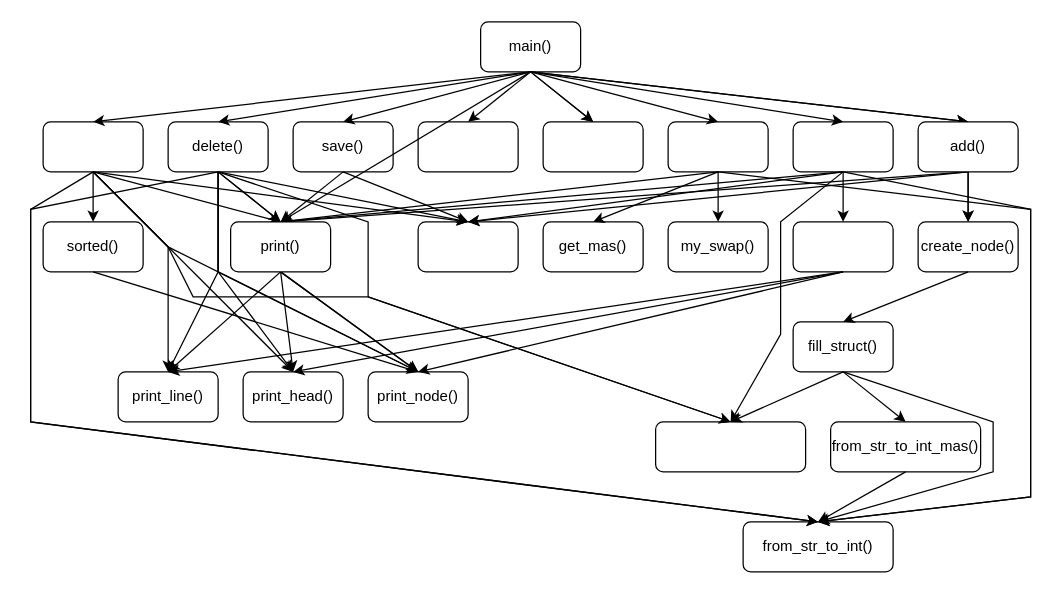
Image size: 1063x594. Some labels were removed from this diagram. Each missing label, with the centre of its shape:
"edit()" belongs at (842,146).
"find()" belongs at (92,146).
"from_str_to_float()" belongs at (730,446).
"help()" belongs at (467,146).
"make_list()" belongs at (592,146).
"print_one()" belongs at (842,246).
"sort()" belongs at (717,146).
"wait()" belongs at (467,246).
